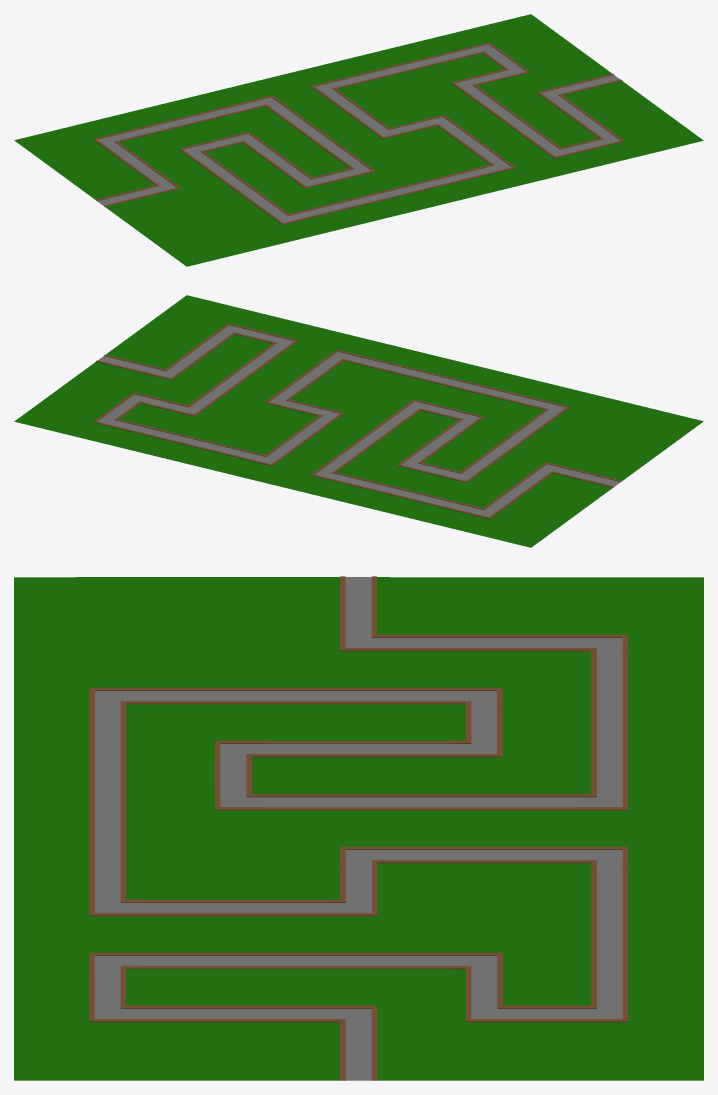
The model's file is Trilha Grama 2 J.fbx.
3 views of the same model, one above another, from view 1: azimuth 30°, elevation 25°; view 2: azimuth 150°, elevation 25°; view 3: azimuth 270°, elevation 25° (orthographic). The views are drawn at different scales.
Parts seen in each view (by area): view 1: Plane; view 2: Plane; view 3: Plane.
Part boxes in pixels (box(x1,y1,x2,y2)): Plane: box(14, 14, 703, 266); Plane: box(14, 295, 703, 547); Plane: box(14, 576, 703, 1080).
Size of the model in its own units: 17821 by 15.72 by 10318.
